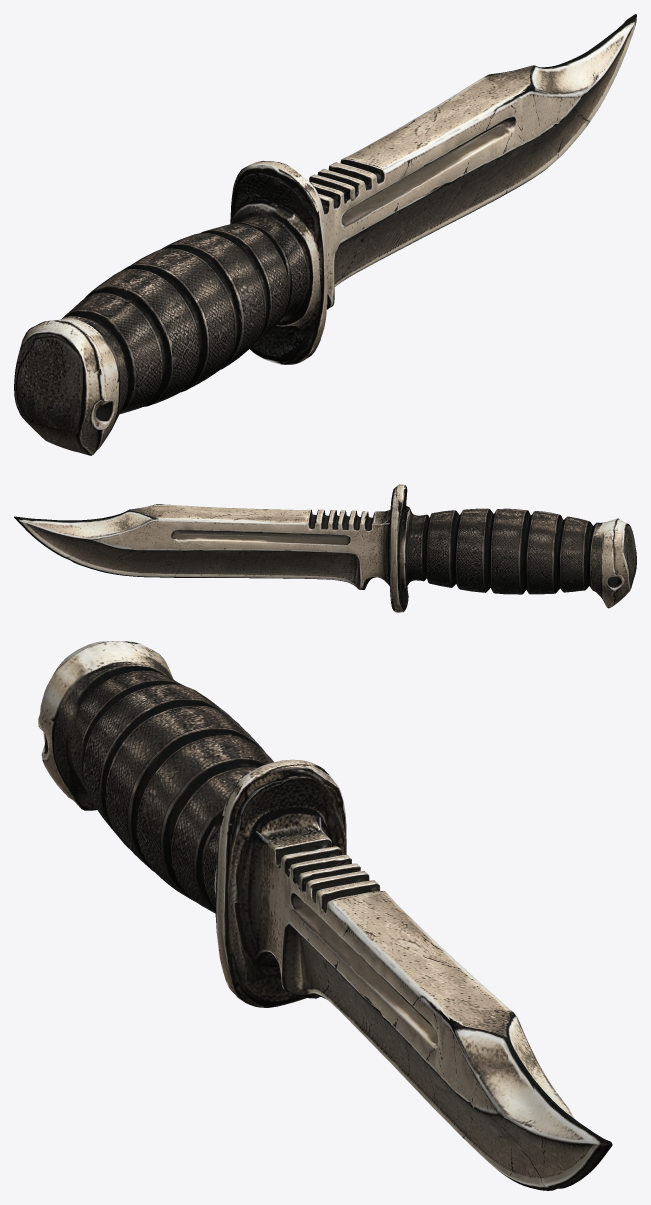
Rendered from combat.glb.
3 views of the same model, one above another, from view 1: azimuth 30°, elevation 25°; view 2: azimuth 150°, elevation 25°; view 3: azimuth 270°, elevation 25° (orthographic). The views are drawn at different scales.
Parts seen in each view (by area): view 1: tripo_node_5a941af4-f969-4aae-953c-d659ded8fde0; view 2: tripo_node_5a941af4-f969-4aae-953c-d659ded8fde0; view 3: tripo_node_5a941af4-f969-4aae-953c-d659ded8fde0.
Boxes of the visible parts, left/top/right/bottom form: tripo_node_5a941af4-f969-4aae-953c-d659ded8fde0: left=14, top=14, right=636, bottom=455; tripo_node_5a941af4-f969-4aae-953c-d659ded8fde0: left=14, top=484, right=636, bottom=612; tripo_node_5a941af4-f969-4aae-953c-d659ded8fde0: left=38, top=641, right=612, bottom=1190.
Size of the model in its own units: 0.9818 by 0.2271 by 0.489.
1 material, 1 textured.
